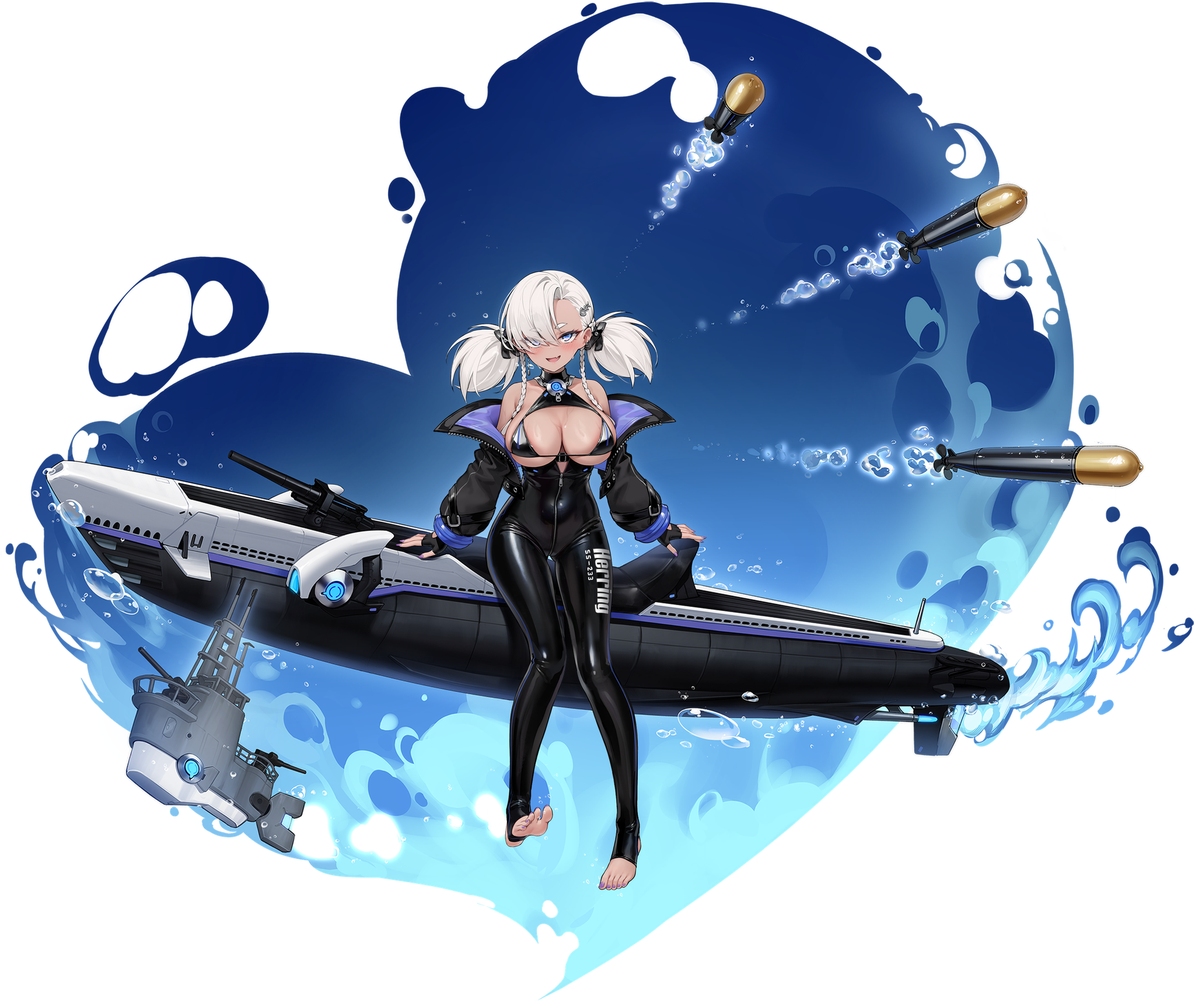person: (393, 247, 747, 906)
